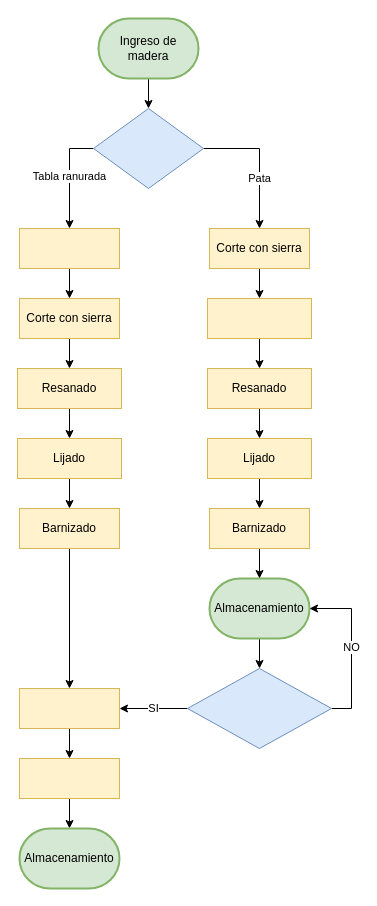
Some shapes in this 377 by 906 pixel diagram are drawn without their labels. The centre of each missing label's shape, as x and y in pixels:
"Biselado" goes at point (259, 318).
"Empaquetado" goes at point (69, 778).
"Ensamble" goes at point (69, 708).
"Fresado CNC" goes at point (69, 248).
"Tipo de parte" goes at point (148, 148).
"¿Hay tablas ranuradas disponibles?" goes at point (259, 708).
